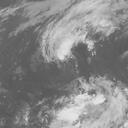cyclone: (40, 30, 97, 89)
